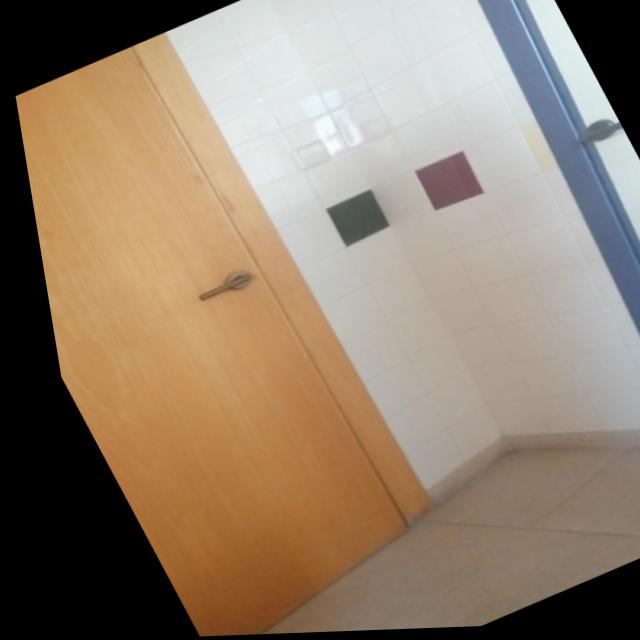door_handle: (178, 271, 249, 305), (568, 122, 621, 152)
